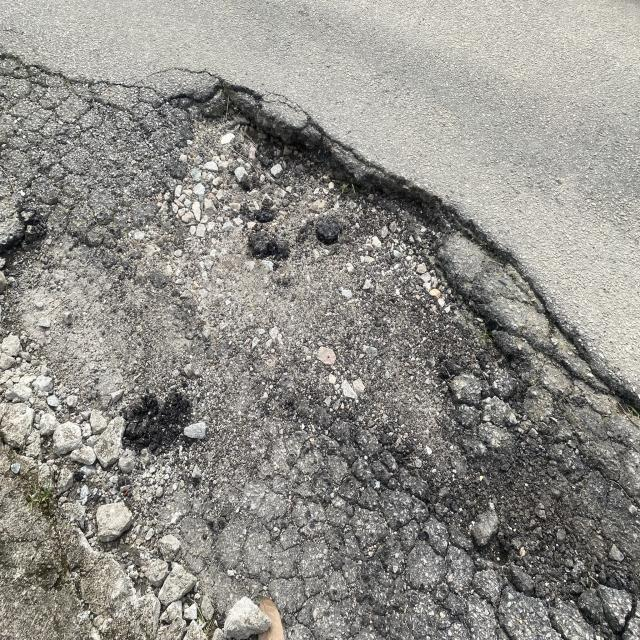pothole: (107, 5, 640, 355)
